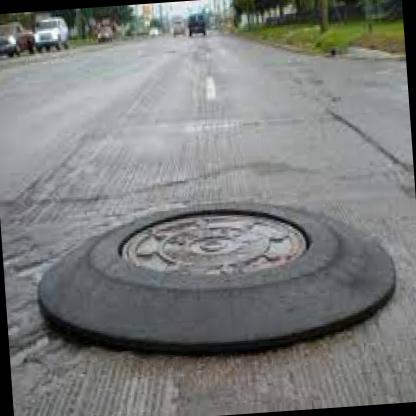manholes: (112, 193, 328, 296)
